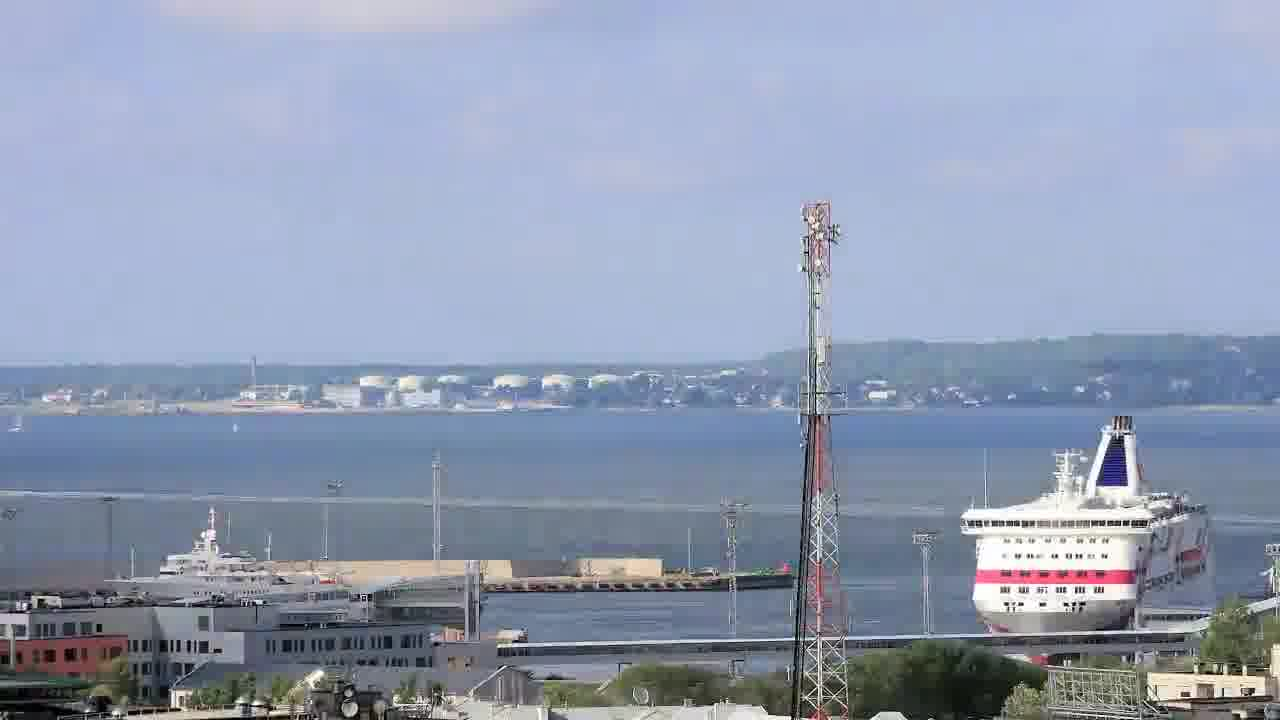type-2: (5, 403, 38, 446)
type-3: (949, 413, 1211, 638), (89, 518, 402, 620)
